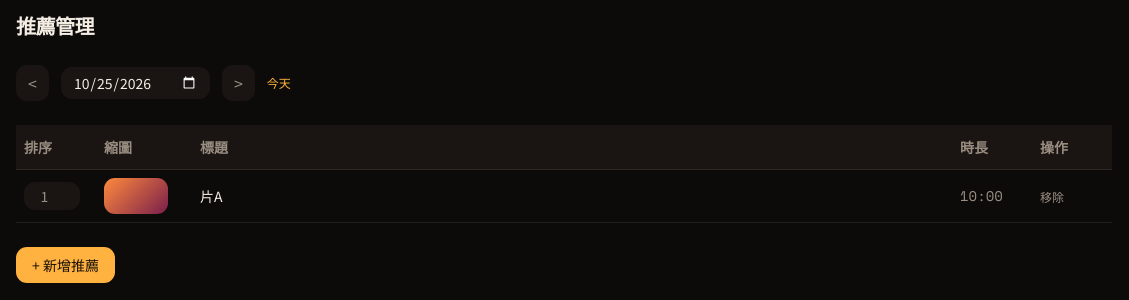
Test: RecommendationManagePage (reskin) › keeps the new day when a reload for the previous day returns late
Replace the text in the number field showing "1" with "2". click: (52, 196)
box: [24,182,80,210]
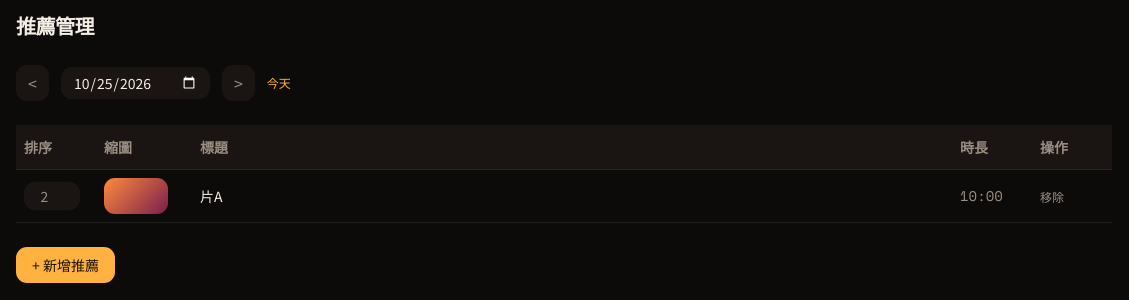
Type "2030-01-02" into the date field. click: (135, 83)
box: [61,67,210,99]
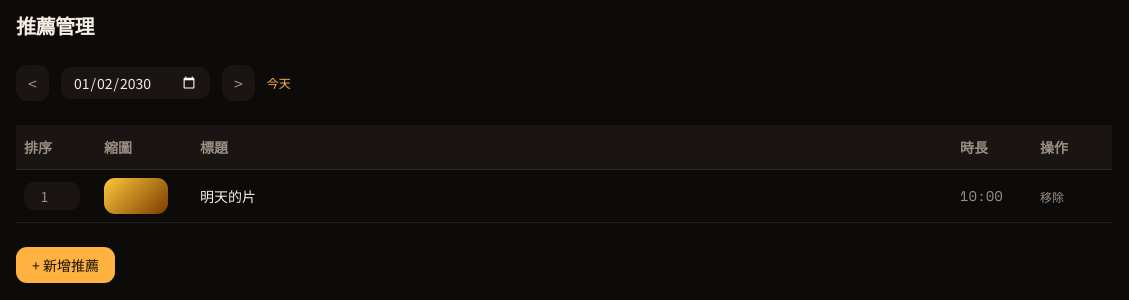
Expected: the link "明天的片" is shown, [200,186,256,206]
Expected: the link "片A" is gone
